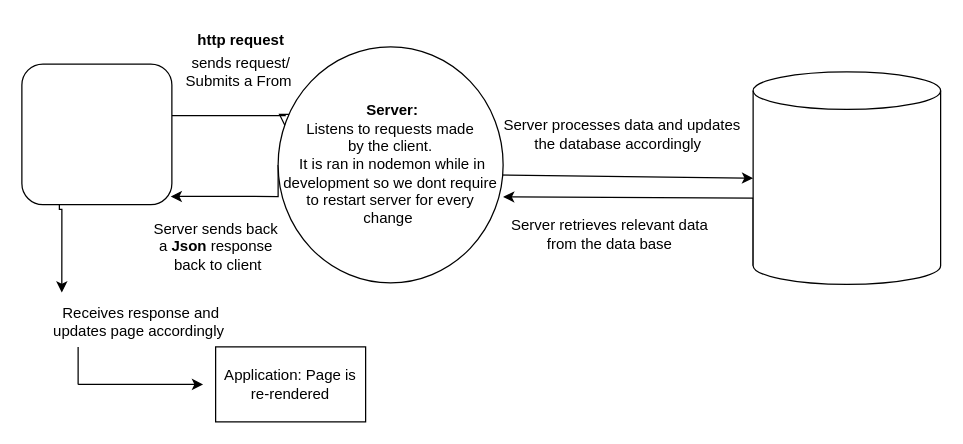
Image size: 963x444. Some labels were removed from this diagram. The shapes that lost their labels are listed below. From the top down, each one's centre as x and y in pixels, then its label:
(96,134): Client Device :
(846,177): MongoDb: data base holds all data required for the app.
